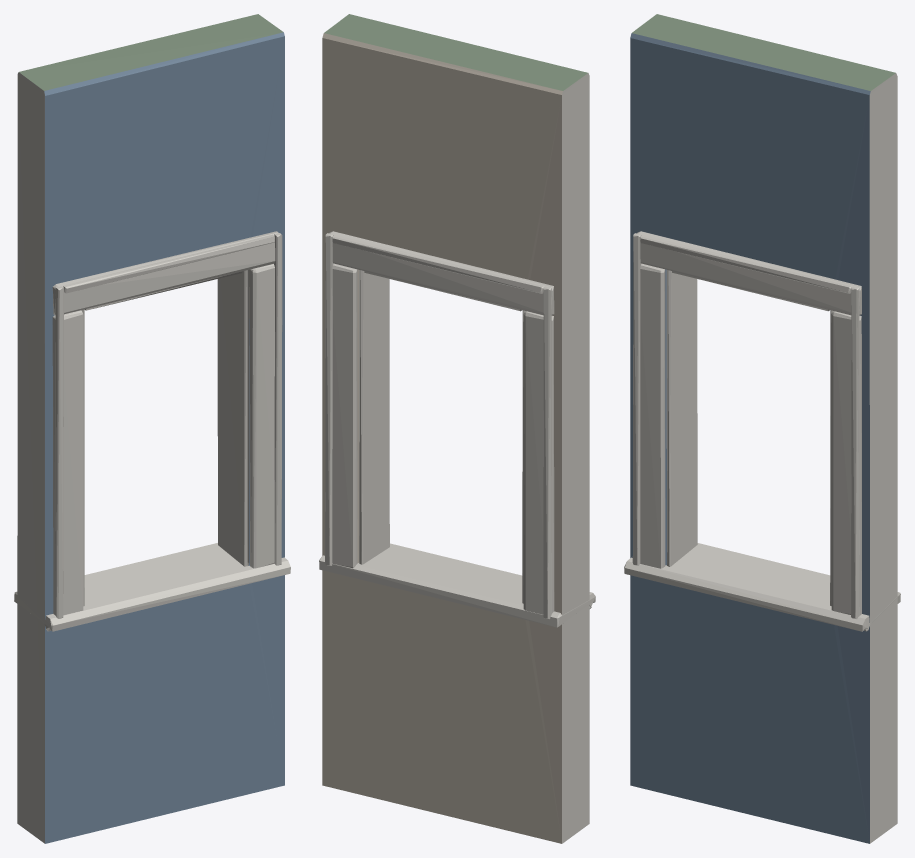
File: SM_Kit_Wall_Window_LOD1.glb
The picture shows the model from 3 angles, left to right: view 1: azimuth 30°, elevation 25°; view 2: azimuth 150°, elevation 25°; view 3: azimuth 330°, elevation 25°; orthographic projection.
Visible parts, largest first — view 1: SM_Kit_Wall_Window_LOD1; view 2: SM_Kit_Wall_Window_LOD1; view 3: SM_Kit_Wall_Window_LOD1.
Part boxes in pixels (box(x1,y1,x2,y2)): SM_Kit_Wall_Window_LOD1: box(14, 14, 290, 843); SM_Kit_Wall_Window_LOD1: box(319, 14, 595, 843); SM_Kit_Wall_Window_LOD1: box(624, 14, 900, 843).
Bounding box in the file's own units: 1 × 3 × 0.2891.
